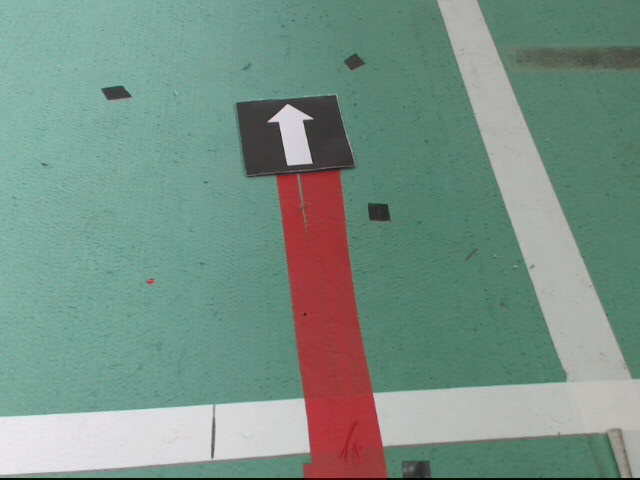straight: (237, 94, 356, 179)
